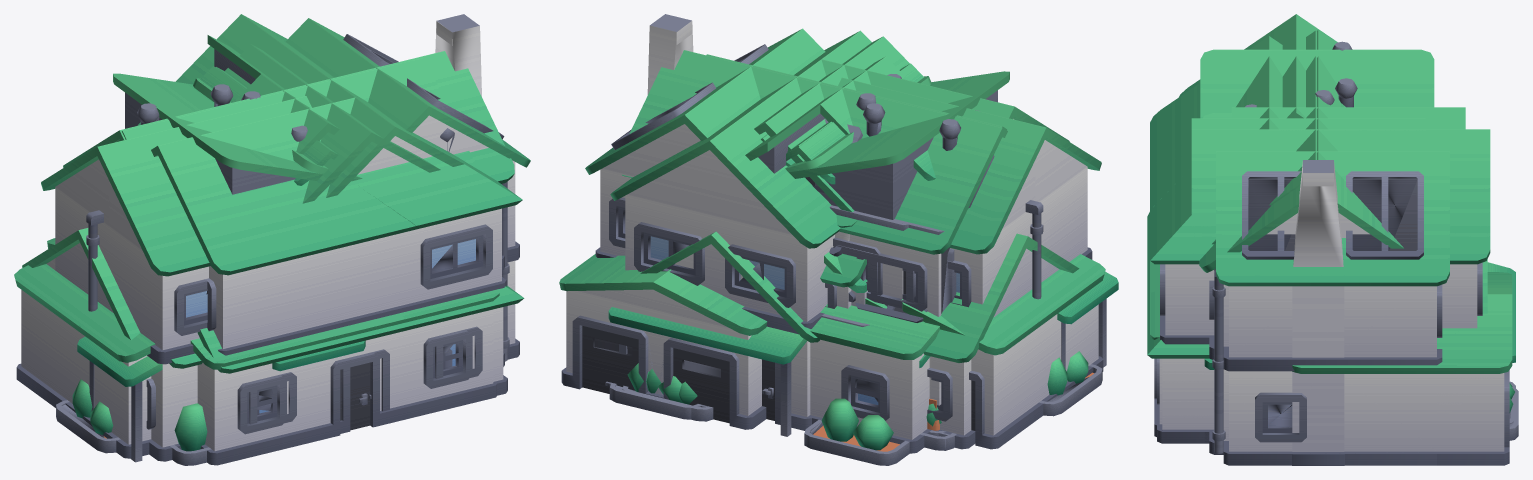
Rendered from suburban.glb.
3 views of the same model, side by side, from view 1: azimuth 30°, elevation 25°; view 2: azimuth 150°, elevation 25°; view 3: azimuth 270°, elevation 25° (orthographic). The views are drawn at different scales.
Parts seen in each view (by area): view 1: building-type-f, building-type-n, building-type-t, building-type-t__lod, building-type-b, building-type-d, building-type-d__lod, building-type-m, building-type-k, building-type-s, building-type-u, building-type-b__lod (+7 smaller); view 2: building-type-n, building-type-f, building-type-d, building-type-f__lod, building-type-b, building-type-t, building-type-d__lod, building-type-k, building-type-e, building-type-m, building-type-t__lod, building-type-b__lod (+9 smaller); view 3: building-type-f, building-type-b__lod, building-type-b, building-type-d__lod, building-type-n, building-type-k, building-type-u, building-type-d, building-type-m, building-type-r, building-type-s, building-type-t (+3 smaller).
Part boxes in pixels (left/top/right/bottom): building-type-f: left=137, top=14, right=522, bottom=465; building-type-n: left=41, top=96, right=365, bottom=462; building-type-t: left=47, top=57, right=499, bottom=465; building-type-t__lod: left=48, top=68, right=499, bottom=451; building-type-b: left=22, top=18, right=530, bottom=453; building-type-d: left=14, top=21, right=514, bottom=458; building-type-d__lod: left=14, top=14, right=495, bottom=444; building-type-m: left=197, top=285, right=524, bottom=433; building-type-k: left=113, top=73, right=357, bottom=193; building-type-s: left=224, top=44, right=440, bottom=203; building-type-u: left=263, top=38, right=495, bottom=197; building-type-b__lod: left=58, top=18, right=524, bottom=437; building-type-n: left=559, top=77, right=1118, bottom=447; building-type-f: left=608, top=59, right=1069, bottom=436; building-type-d: left=622, top=21, right=1105, bottom=449; building-type-f__lod: left=614, top=107, right=1014, bottom=420; building-type-b: left=585, top=29, right=1102, bottom=449; building-type-t: left=622, top=54, right=1006, bottom=465; building-type-d__lod: left=647, top=14, right=1105, bottom=396; building-type-k: left=789, top=71, right=1009, bottom=290; building-type-e: left=786, top=110, right=1007, bottom=367; building-type-m: left=609, top=231, right=819, bottom=419; building-type-t__lod: left=797, top=63, right=956, bottom=451; building-type-b__lod: left=623, top=28, right=1094, bottom=434; building-type-f: left=1150, top=36, right=1515, bottom=443; building-type-b__lod: left=1215, top=179, right=1436, bottom=465; building-type-b: left=1212, top=151, right=1449, bottom=465; building-type-d__lod: left=1213, top=47, right=1369, bottom=451; building-type-n: left=1179, top=14, right=1512, bottom=465; building-type-k: left=1200, top=49, right=1434, bottom=118; building-type-u: left=1191, top=129, right=1425, bottom=443; building-type-d: left=1199, top=78, right=1403, bottom=465; building-type-m: left=1147, top=212, right=1518, bottom=443; building-type-r: left=1231, top=90, right=1465, bottom=129; building-type-s: left=1191, top=104, right=1425, bottom=369; building-type-t: left=1150, top=30, right=1515, bottom=436.
Size of the model in its own units: 1.83 by 1.24 by 1.43.
Materials: 1 (1 with a texture image).
